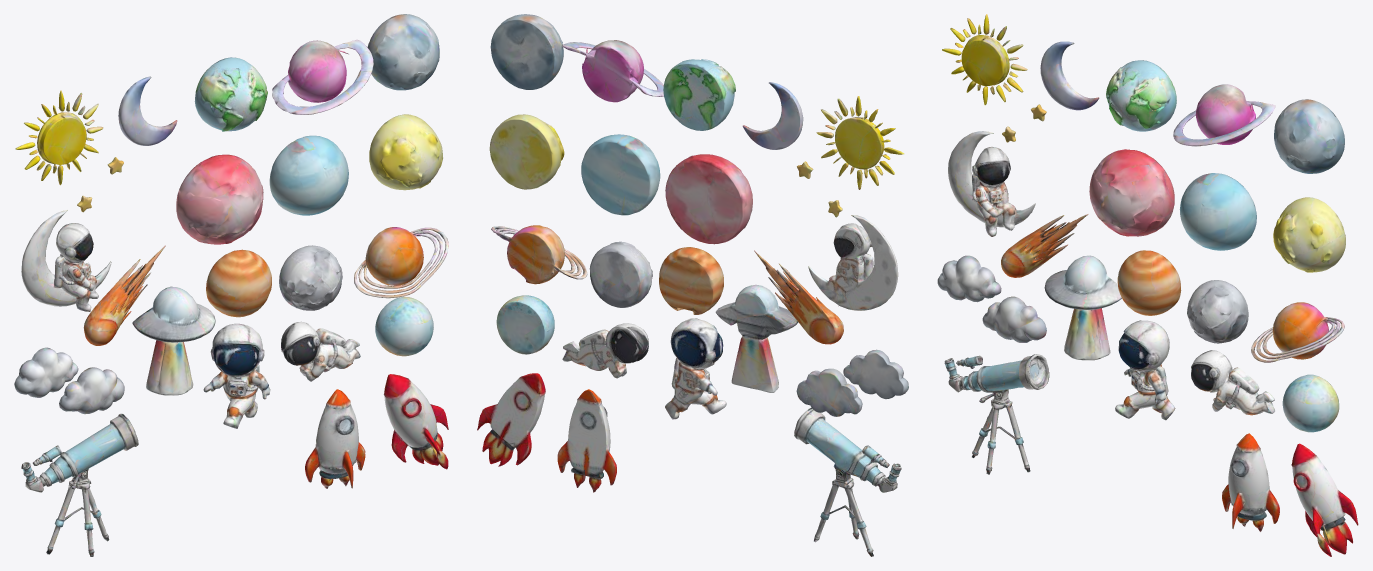
3 views of the same model, side by side, from view 1: azimuth 30°, elevation 25°; view 2: azimuth 150°, elevation 25°; view 3: azimuth 330°, elevation 25° (orthographic). The views are drawn at different scales.
Parts seen in each view (by area): view 1: Mesh 39, Mesh 4, Mesh 35, Mesh 9, Mesh 45, Mesh 44, Mesh 51, Mesh 49, Mesh 18, Mesh 50, Mesh 41, Mesh 40 (+9 smaller); view 2: Mesh 39, Mesh 4, Mesh 45, Mesh 9, Mesh 35, Mesh 18, Mesh 50, Mesh 51, Mesh 41, Mesh 40, Mesh 53, Mesh 48 (+9 smaller); view 3: Mesh 39, Mesh 35, Mesh 4, Mesh 45, Mesh 9, Mesh 51, Mesh 50, Mesh 18, Mesh 53, Mesh 41, Mesh 40, Mesh 44 (+9 smaller).
Part boxes in pixels (x1=…): Mesh 39: x1=176, y1=154, x2=263, y2=244; Mesh 4: x1=21, y1=210, x2=111, y2=311; Mesh 35: x1=132, y1=286, x2=215, y2=395; Mesh 9: x1=21, y1=413, x2=138, y2=556; Mesh 45: x1=269, y1=135, x2=348, y2=215; Mesh 44: x1=272, y1=39, x2=373, y2=114; Mesh 51: x1=369, y1=114, x2=442, y2=190; Mesh 49: x1=354, y1=227, x2=448, y2=298; Mesh 18: x1=14, y1=347, x2=124, y2=414; Mesh 50: x1=367, y1=14, x2=439, y2=90; Mesh 41: x1=203, y1=323, x2=270, y2=428; Mesh 40: x1=194, y1=57, x2=267, y2=131; Mesh 39: x1=665, y1=154, x2=752, y2=244; Mesh 4: x1=808, y1=215, x2=898, y2=310; Mesh 45: x1=581, y1=134, x2=660, y2=215; Mesh 9: x1=794, y1=407, x2=901, y2=556; Mesh 35: x1=715, y1=284, x2=798, y2=392; Mesh 18: x1=796, y1=349, x2=908, y2=416; Mesh 50: x1=490, y1=14, x2=563, y2=89; Mesh 51: x1=489, y1=114, x2=564, y2=189; Mesh 41: x1=665, y1=318, x2=726, y2=419; Mesh 40: x1=663, y1=59, x2=735, y2=130; Mesh 53: x1=477, y1=373, x2=545, y2=466; Mesh 48: x1=557, y1=389, x2=616, y2=492; Mesh 39: x1=1089, y1=149, x2=1174, y2=236; Mesh 35: x1=1044, y1=255, x2=1121, y2=360; Mesh 4: x1=948, y1=131, x2=1035, y2=236; Mesh 45: x1=1179, y1=173, x2=1256, y2=250; Mesh 9: x1=944, y1=354, x2=1049, y2=474; Mesh 51: x1=1273, y1=197, x2=1345, y2=272; Mesh 50: x1=1274, y1=99, x2=1344, y2=173; Mesh 18: x1=937, y1=255, x2=1046, y2=342; Mesh 53: x1=1291, y1=443, x2=1358, y2=556; Mesh 41: x1=1115, y1=320, x2=1175, y2=420; Mesh 40: x1=1106, y1=60, x2=1176, y2=131; Mesh 44: x1=1173, y1=84, x2=1275, y2=146.
Size of the model in its own units: 1.86 by 1.9 by 0.238.
23 materials, 23 textured.
